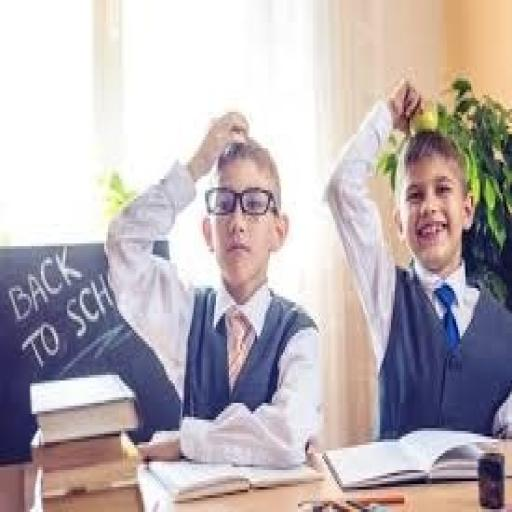sitting: (102, 106, 322, 470), (324, 73, 510, 442)
